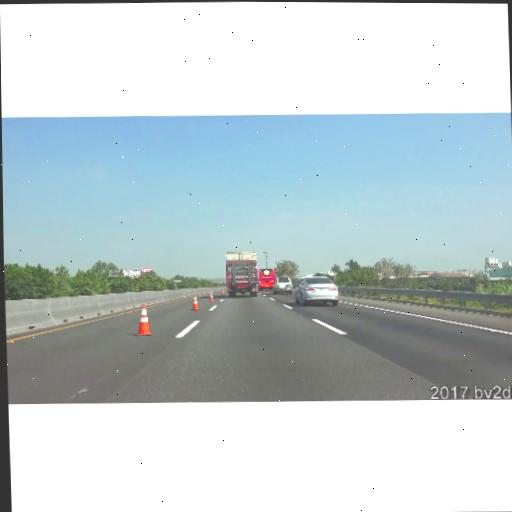Car: (226, 251, 259, 298), (294, 276, 340, 307), (257, 268, 276, 290), (272, 275, 293, 294)
